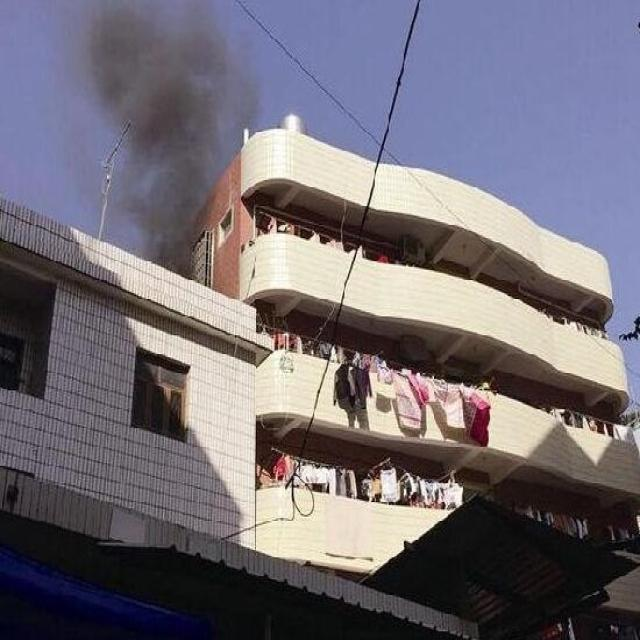Smoke: (79, 2, 262, 282)
